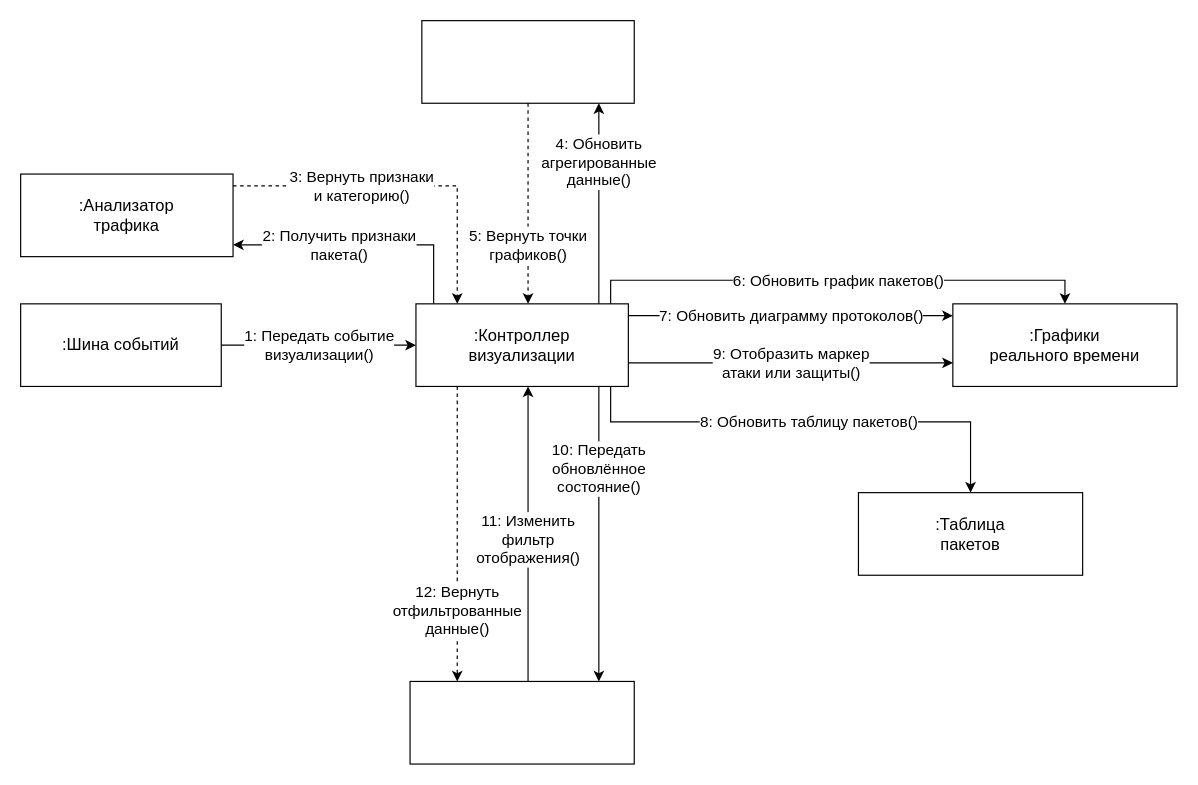
Image size: 1198x785. Some labels were removed from this diagram. The shapes that lost their labels are listed below. From the top down, each one's centre as x and y in pixels, then its label:
(527,61): :Буфер статистики
(521,722): :Пользовательский интерфейс
